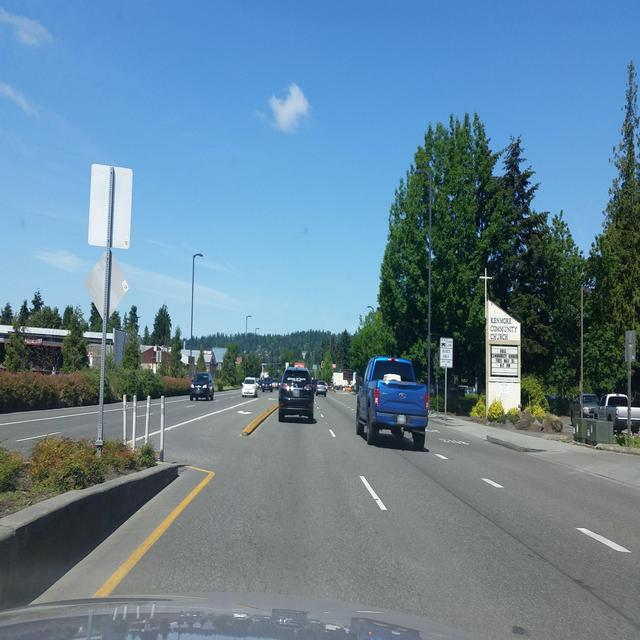Barrier: (242, 402, 278, 435)
Billboard: (343, 369, 353, 379)
Car: (355, 355, 428, 450), (242, 366, 314, 422), (190, 372, 214, 400)
Vegetation: (0, 289, 102, 412), (104, 302, 192, 402)
